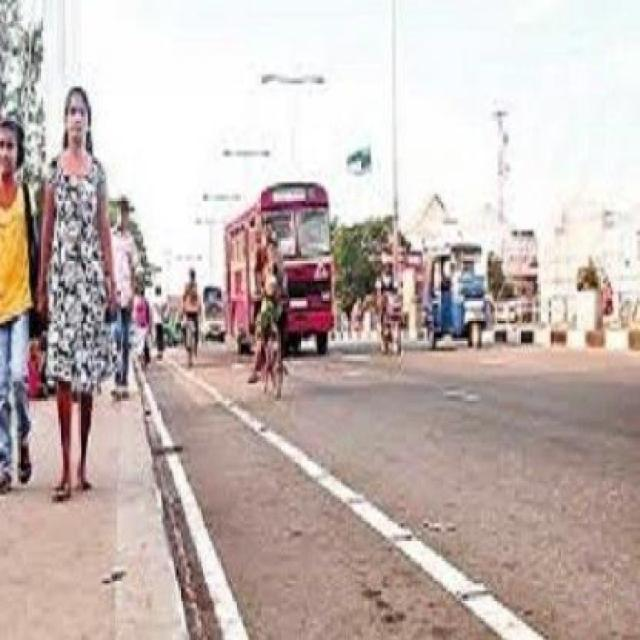Person: (40, 78, 134, 504), (0, 112, 38, 496)
